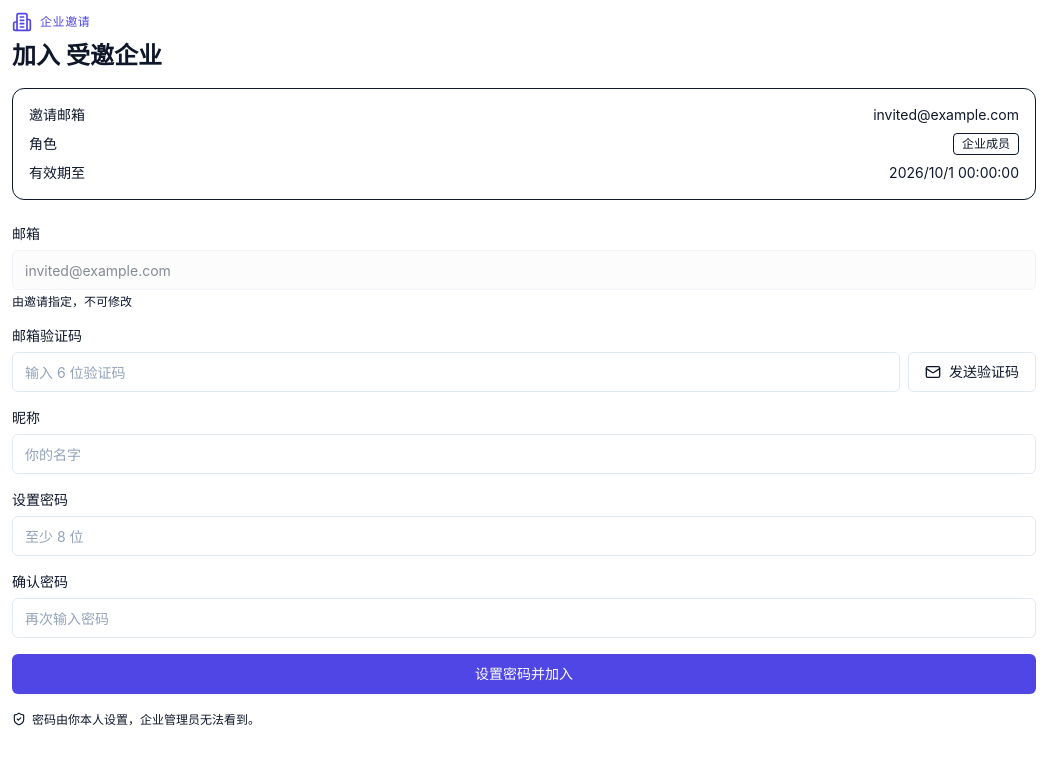
it: JoinPage registration form › requires matching password confirmation before joining
The width and height of the screenshot is (1048, 780).
In the field with placeholder "你的名字": [524, 454] box [12, 434, 1036, 474], type "李四"
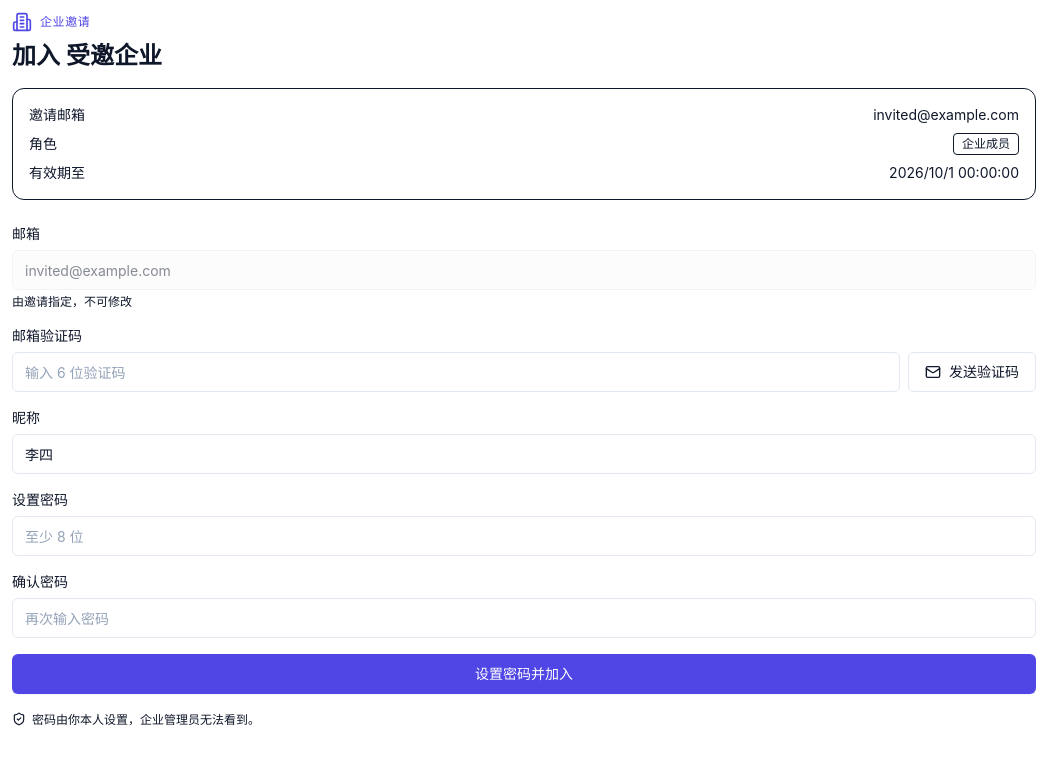
In the field with placeholder "输入 6 位验证码": [456, 372] box [12, 352, 900, 392], type "654321"
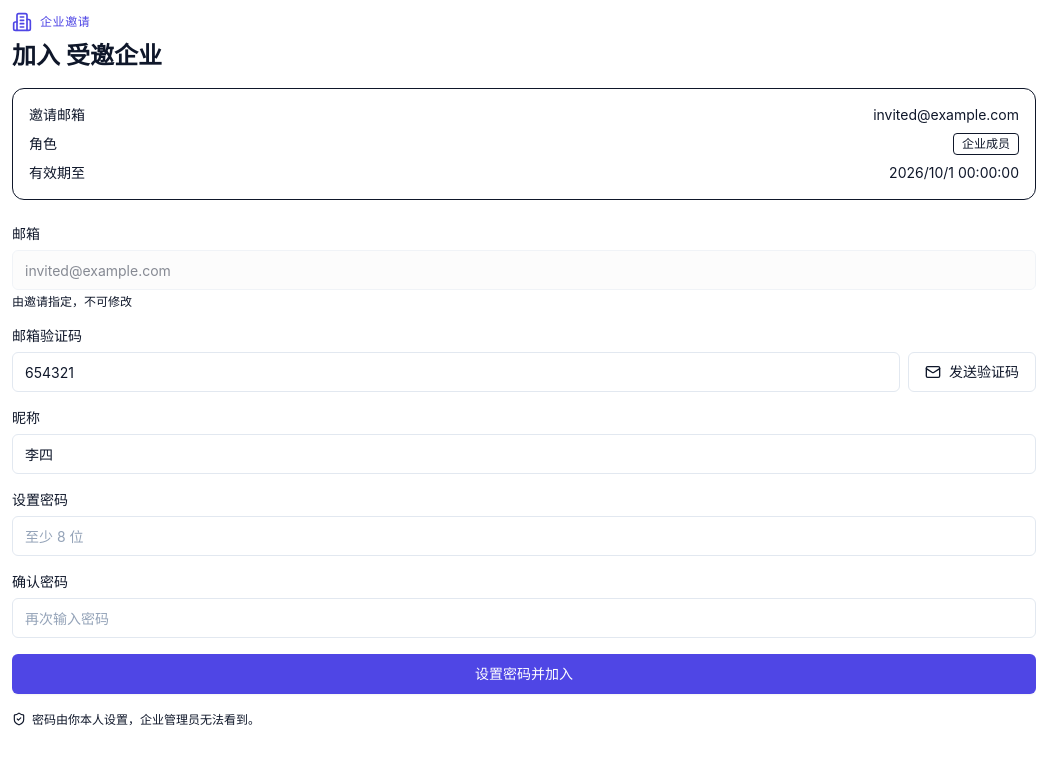
In the password field with placeholder "至少 8 位": [524, 536] box [12, 516, 1036, 556], type "password123"
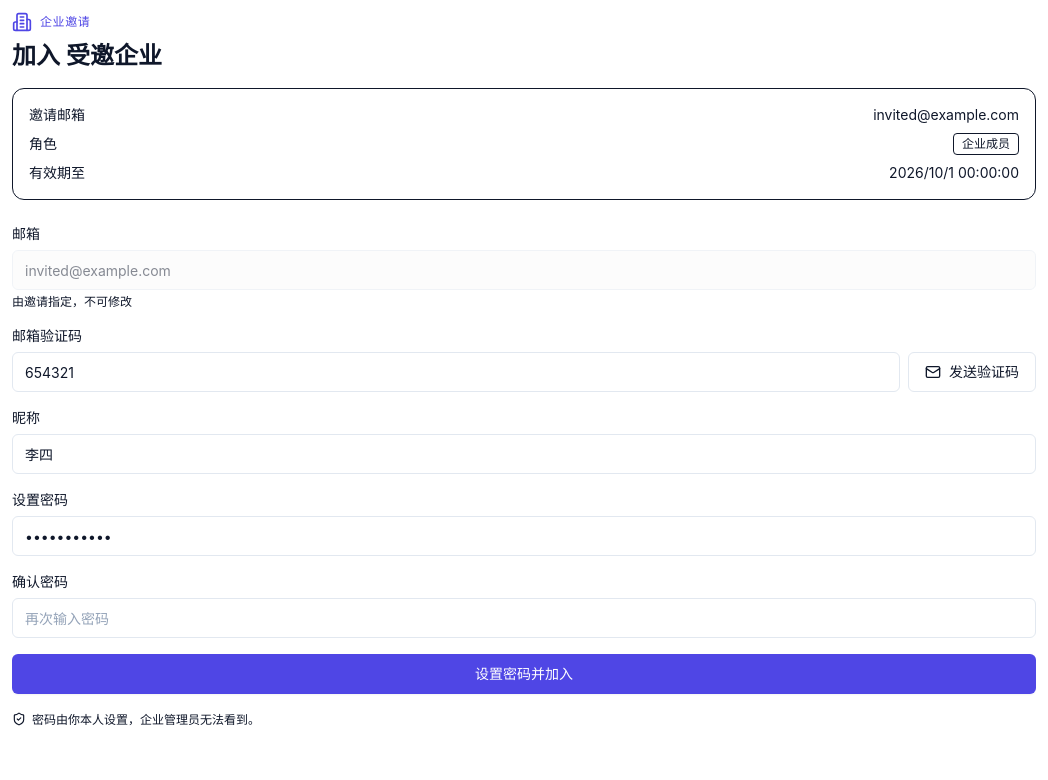
In the password field with placeholder "再次输入密码": [524, 618] box [12, 598, 1036, 638], type "different123"
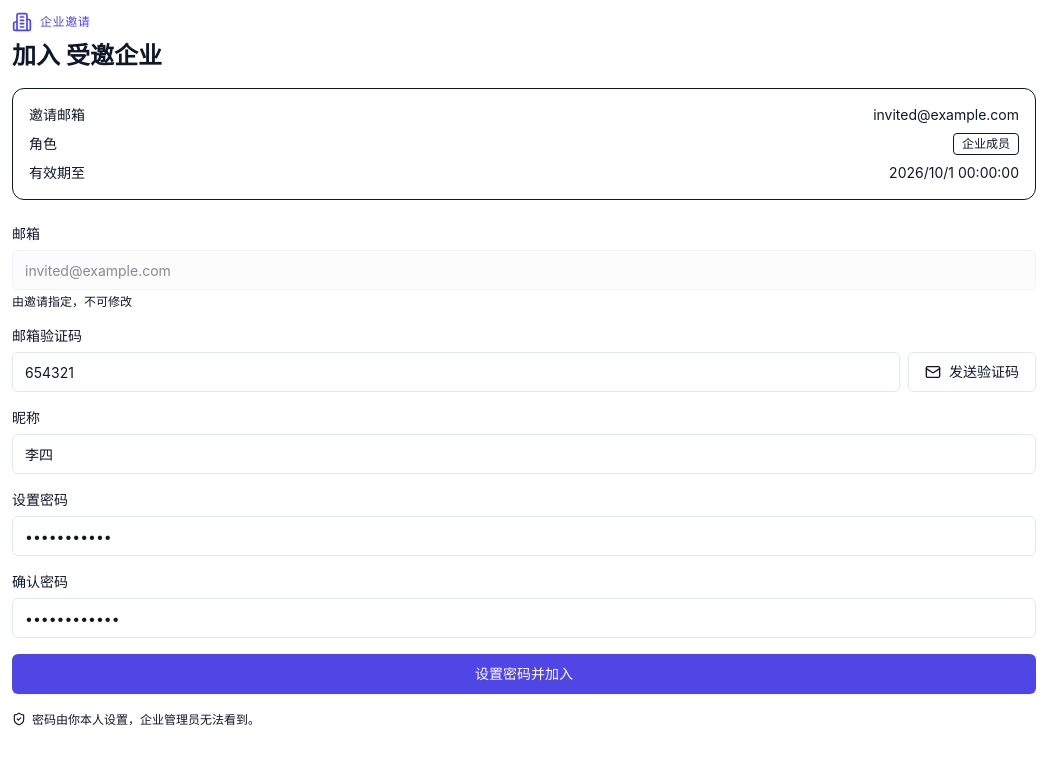
Click the button "设置密码并加入": [524, 674] box [12, 654, 1036, 694]
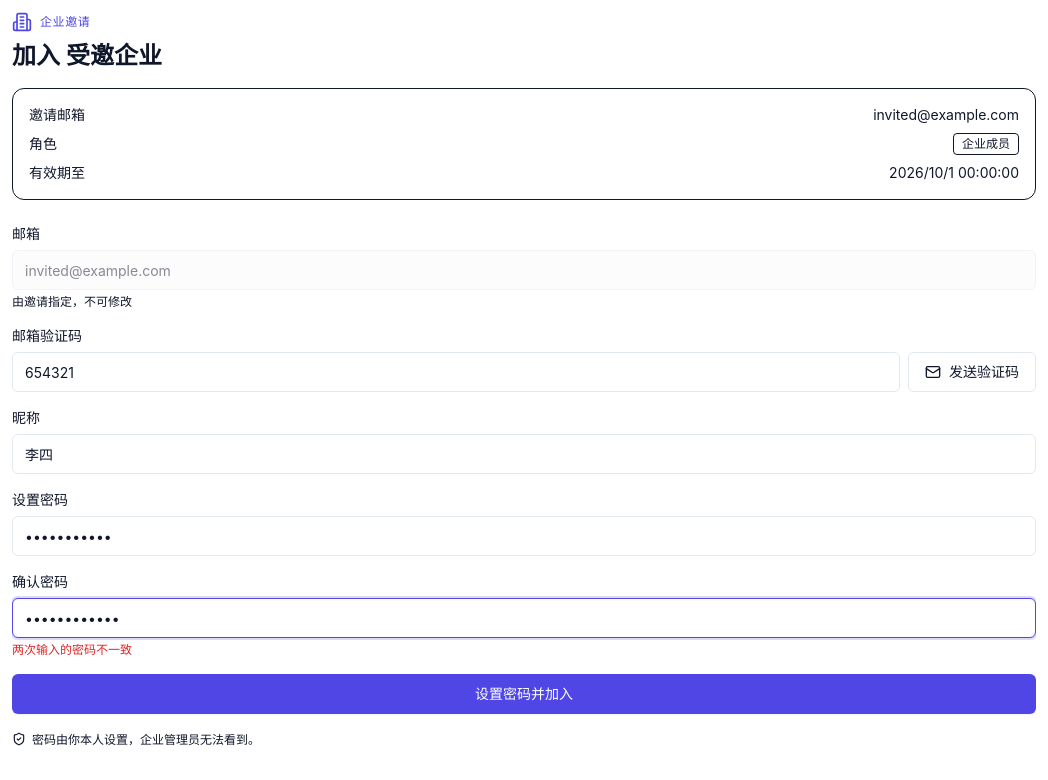
Expected: the text "两次输入的密码不一致" is shown, [12, 642, 132, 657]
